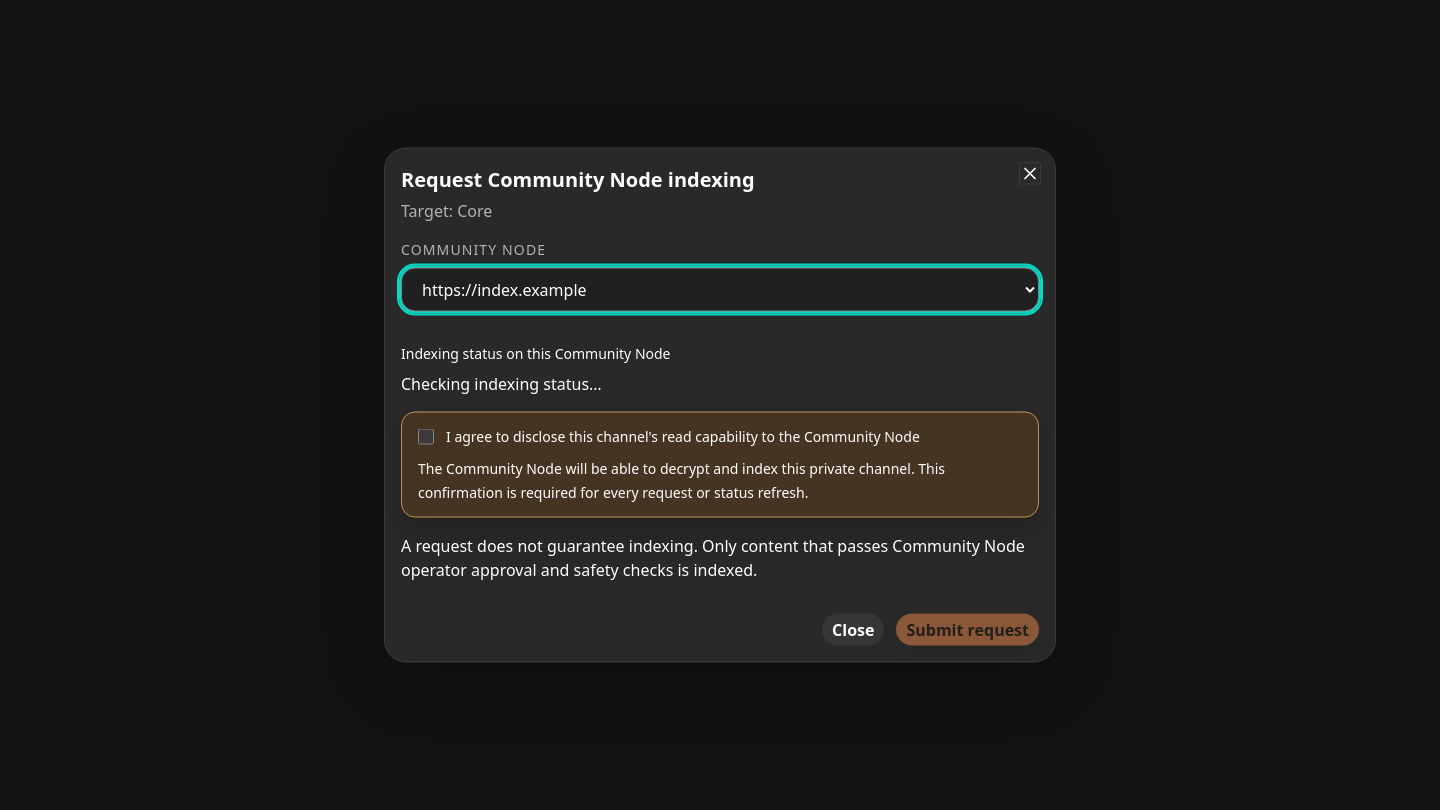
it: private channel request stays disabled until explicit disclosure confirmation
Check: the button "Submit request" is disabled, box [896,614,1039,646]
Click the checkbox labelled "I agree to disclose this channel's read capability": coordinates (426, 436) [418,428,434,444]
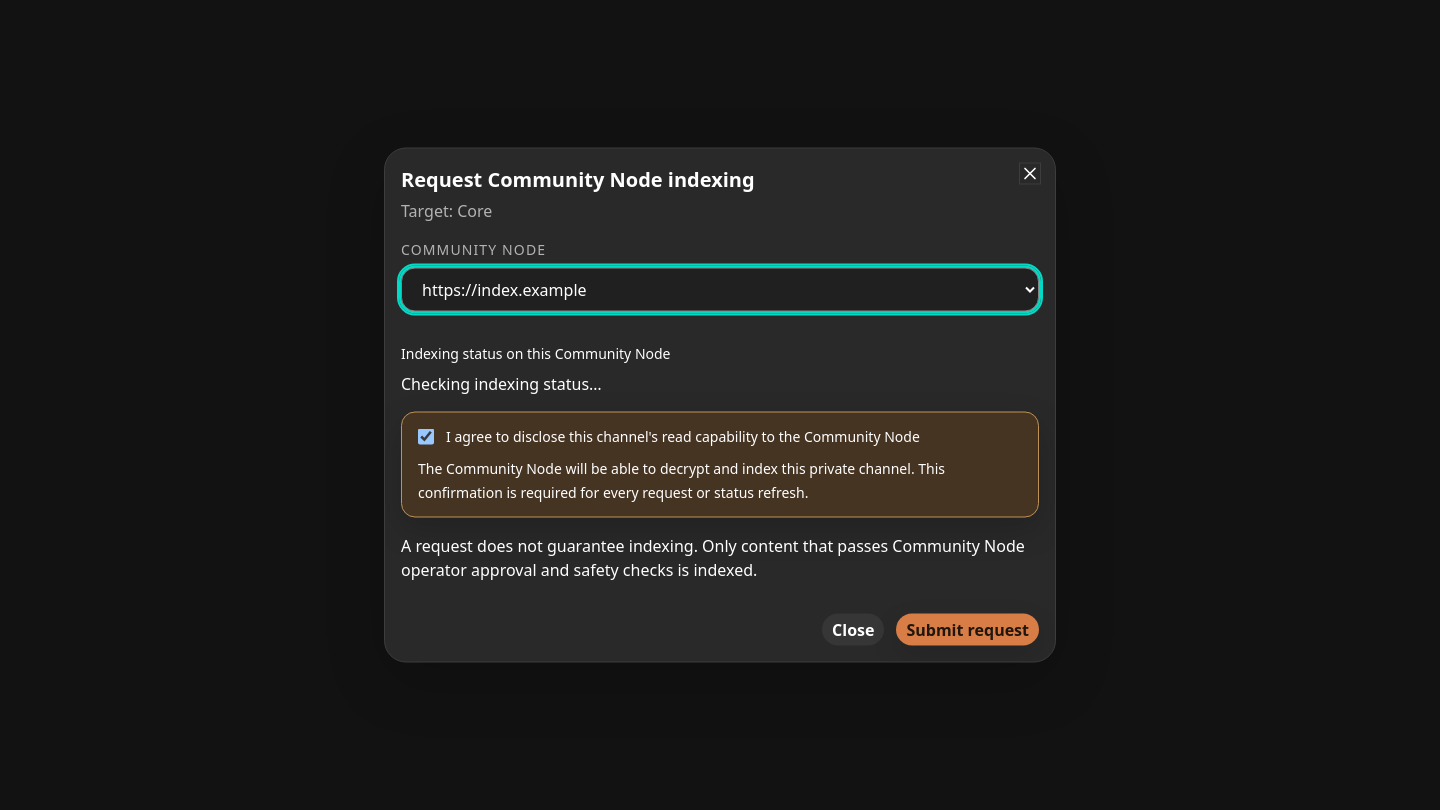
Check: the button "Submit request" is enabled
Click the button "Submit request": coordinates (968, 630) [896,614,1039,646]
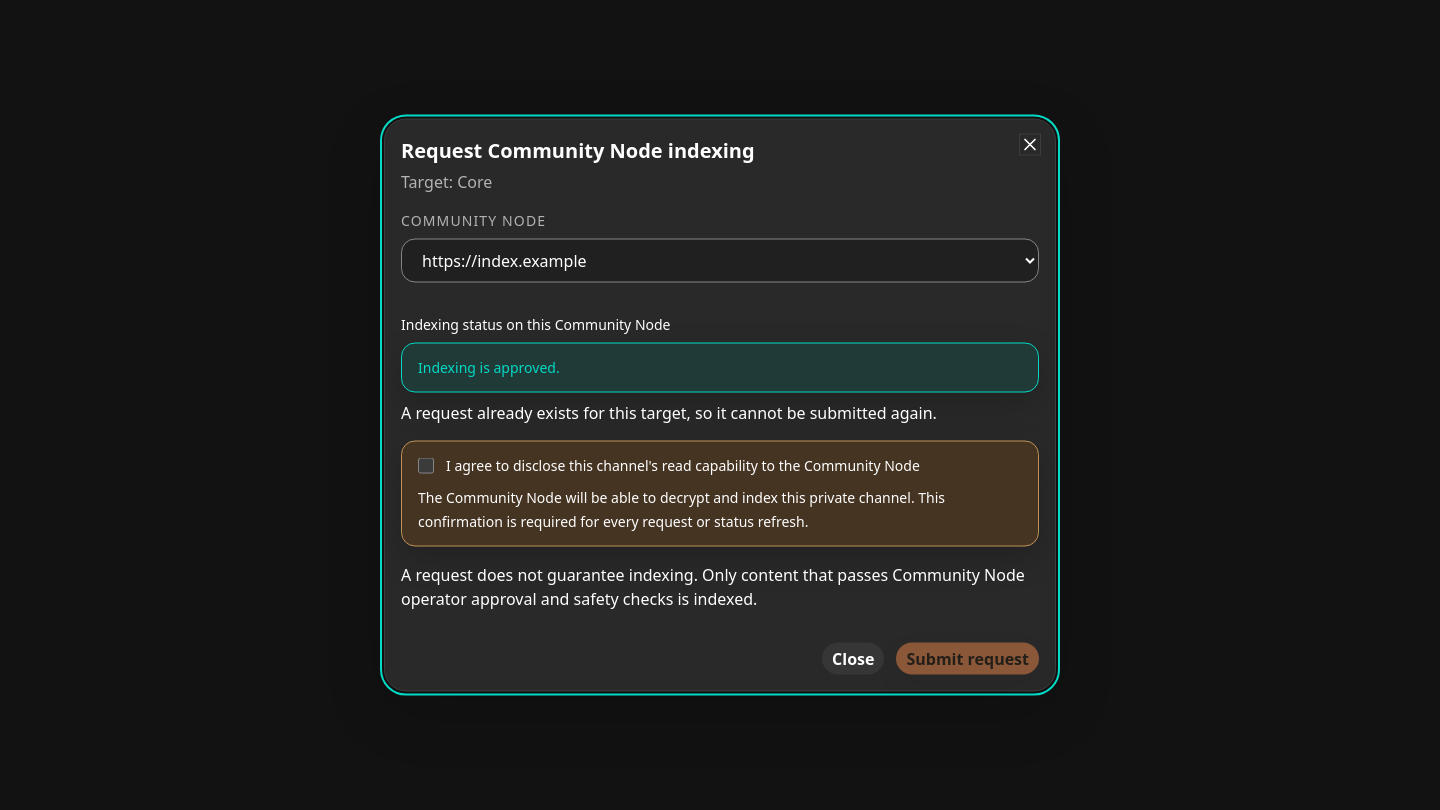
Check: the checkbox is not checked, box [418,458,434,474]
Check: the button "Submit request" is disabled, box [896,642,1039,674]
